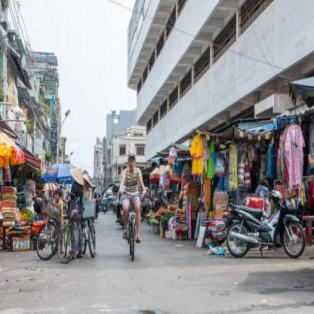Motocicleta: (217, 184, 309, 263)
